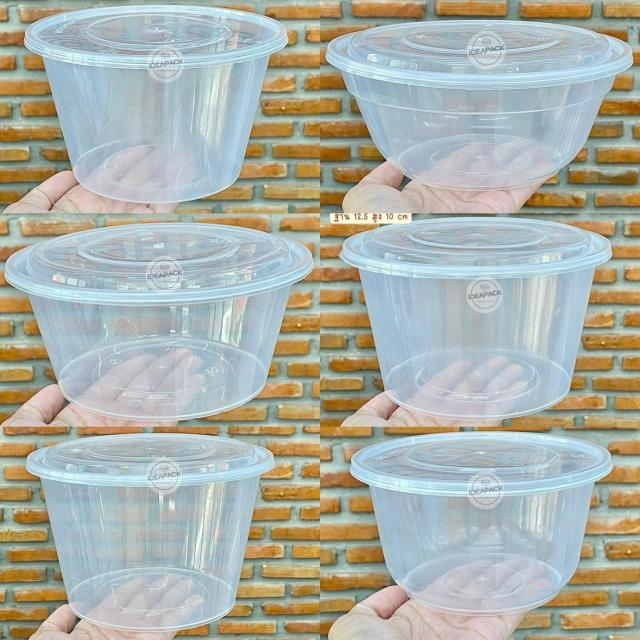Single-Use-Plastic: (5, 224, 313, 424), (340, 218, 612, 420), (327, 20, 633, 190), (25, 5, 288, 202), (26, 434, 274, 630), (350, 432, 612, 615)
